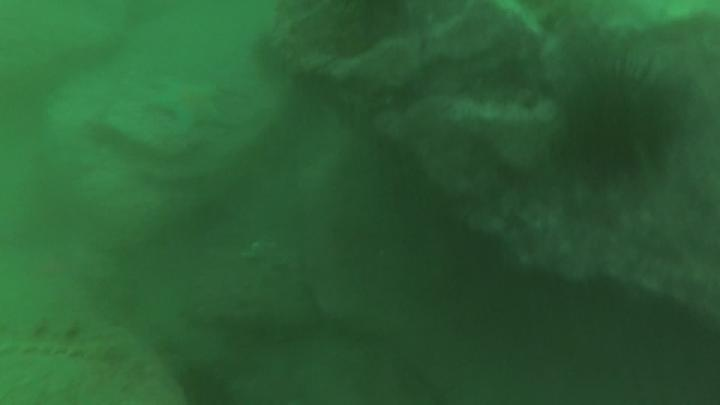echinus: (558, 58, 684, 183), (173, 360, 237, 405)
holothurian: (1, 316, 113, 364)
starfish: (147, 74, 229, 137)
